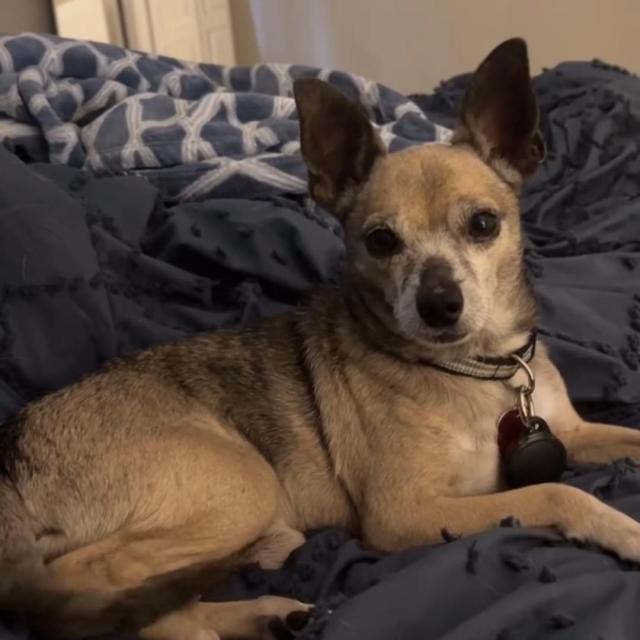chihuahua_dog: (284, 32, 564, 377)
